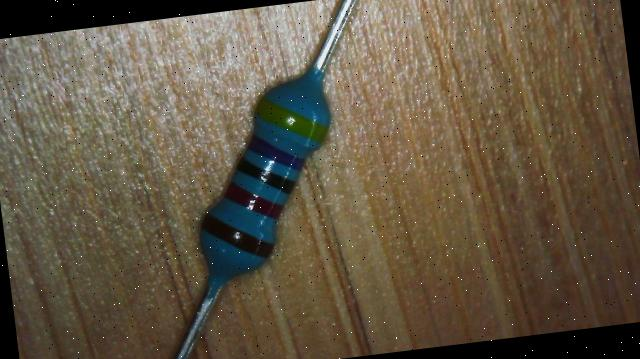black: (236, 152, 296, 198)
brown: (200, 206, 274, 264)
red: (222, 176, 284, 224)
resistor: (154, 48, 374, 328)
violet: (246, 129, 304, 176)
yellow: (253, 90, 329, 150)
